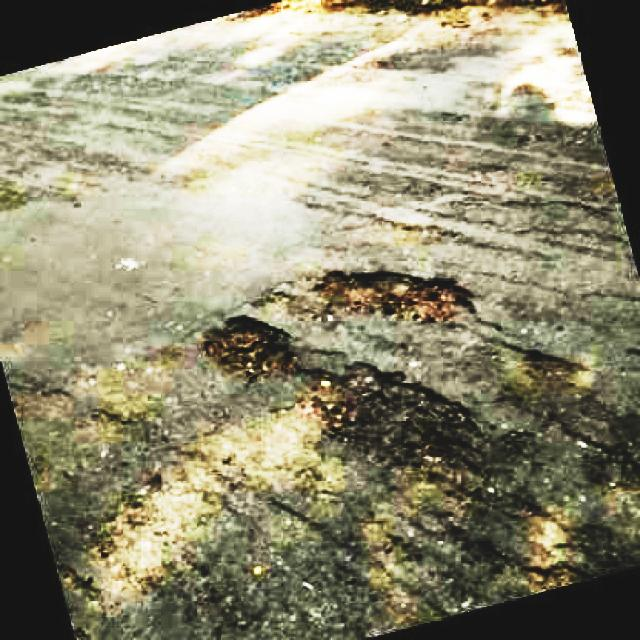pothole: (321, 364, 477, 484), (318, 269, 472, 331), (203, 310, 285, 382)
